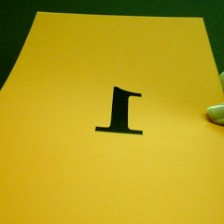orange1: (90, 82, 151, 139)
